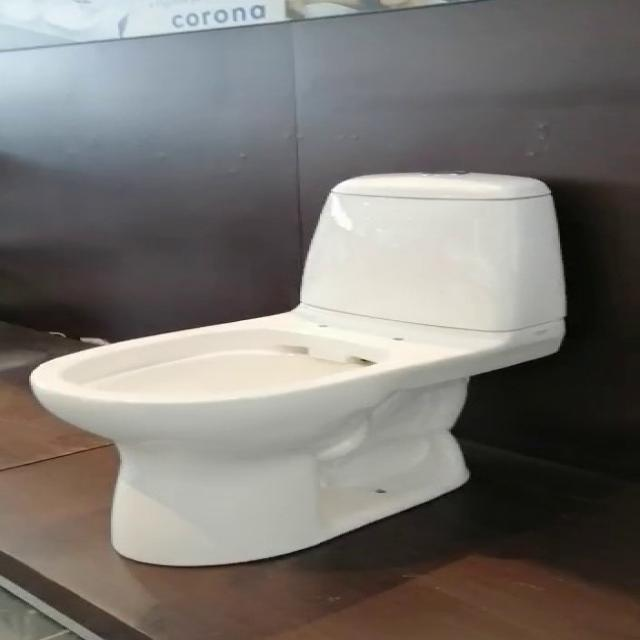toilet: (28, 170, 568, 566)
